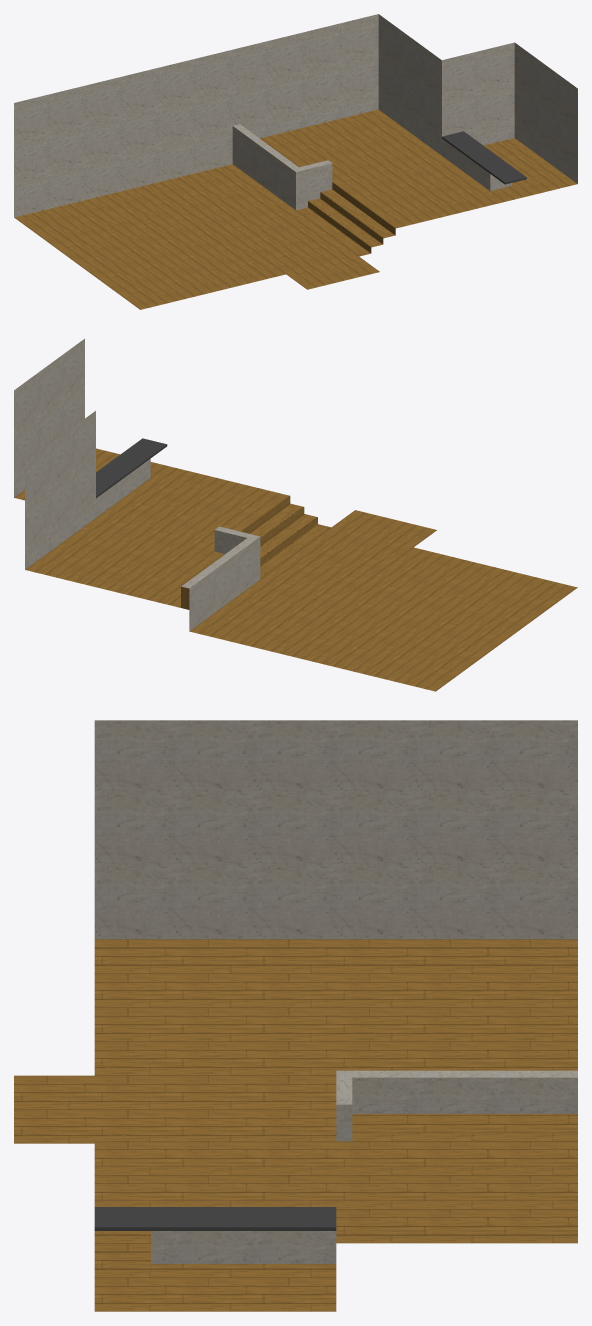
Rendered from shop-interior.glb.
3 views of the same model, one above another, from view 1: azimuth 30°, elevation 25°; view 2: azimuth 150°, elevation 25°; view 3: azimuth 270°, elevation 25° (orthographic). The views are drawn at different scales.
Visible parts, largest first — view 1: shop-col; view 2: shop-col; view 3: shop-col.
Part boxes in pixels (<box>): shop-col: <box>14,14,577,309</box>; shop-col: <box>14,338,577,691</box>; shop-col: <box>14,720,577,1311</box>.
Size of what is drawn, in the model's own units: 12 by 3 by 7.
Materials: 3 (2 with a texture image).
